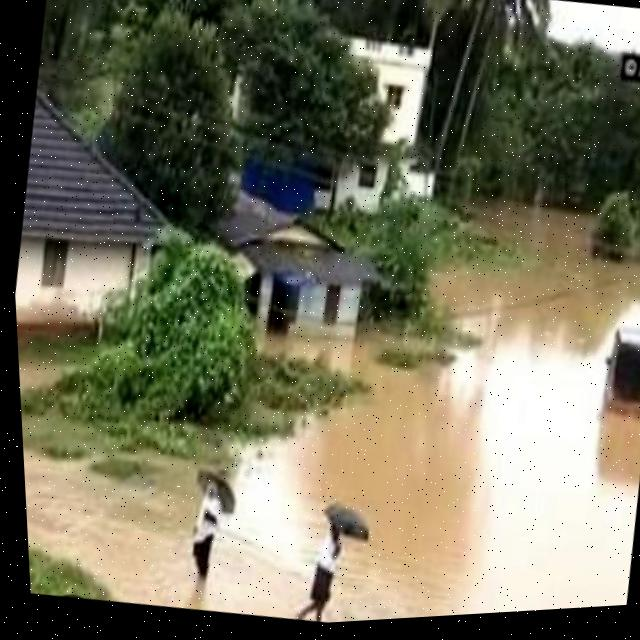civilian: (288, 500, 357, 625), (178, 463, 238, 584)
